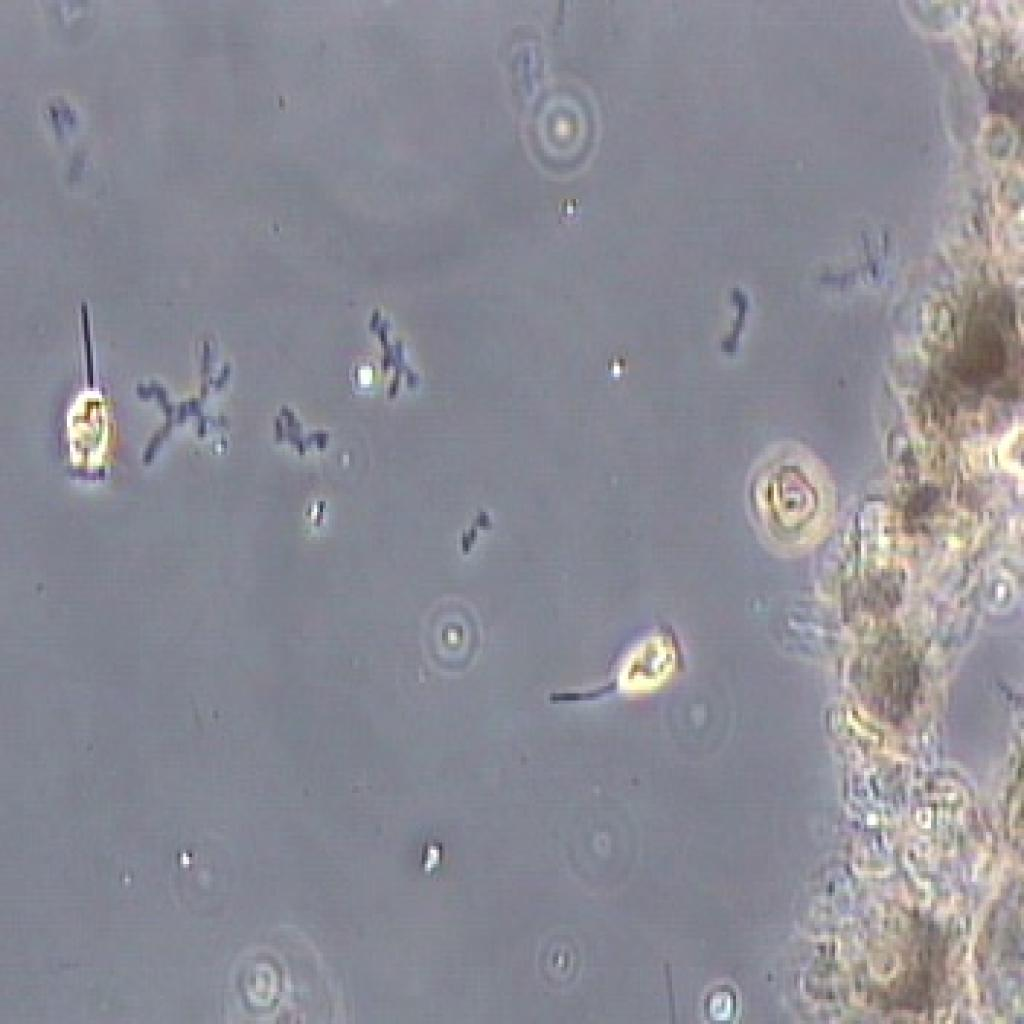Vorticella: (528, 606, 711, 727)
